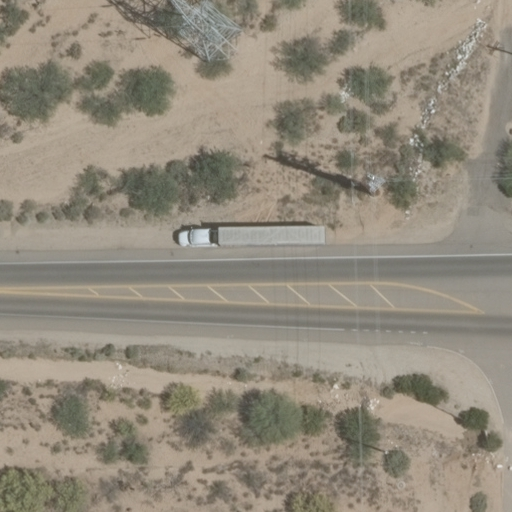TT: (140, 1, 248, 69), (351, 167, 393, 199)
